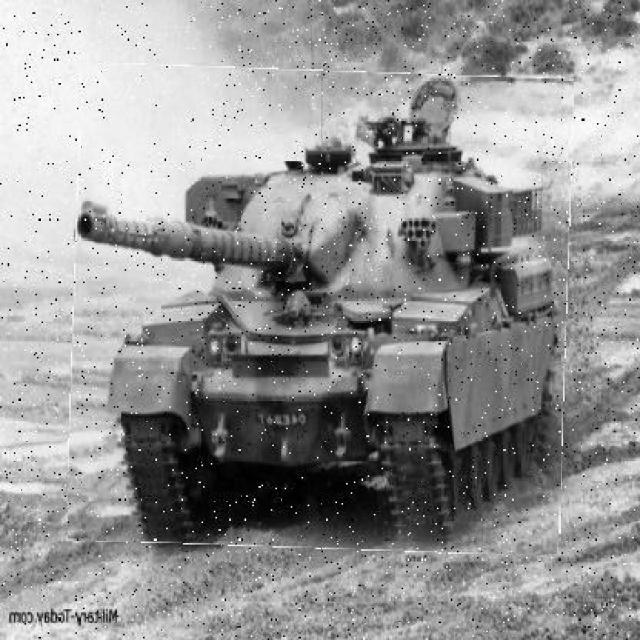Tank: (72, 69, 570, 553)
